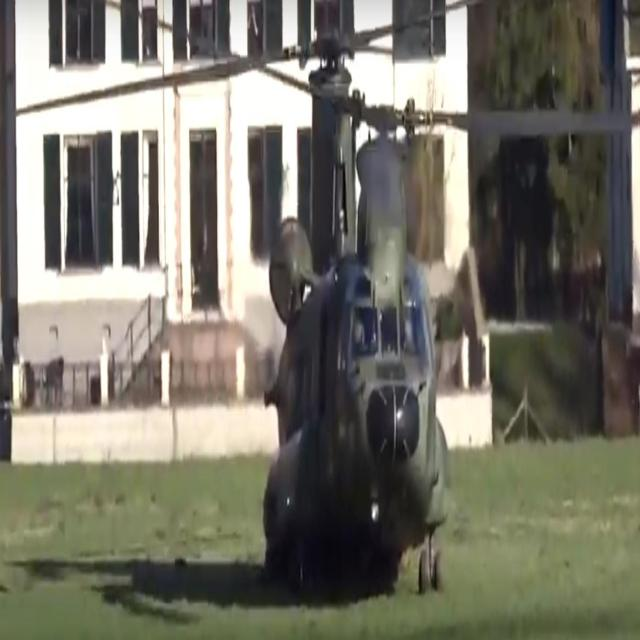Helicopter: (211, 9, 498, 596)
